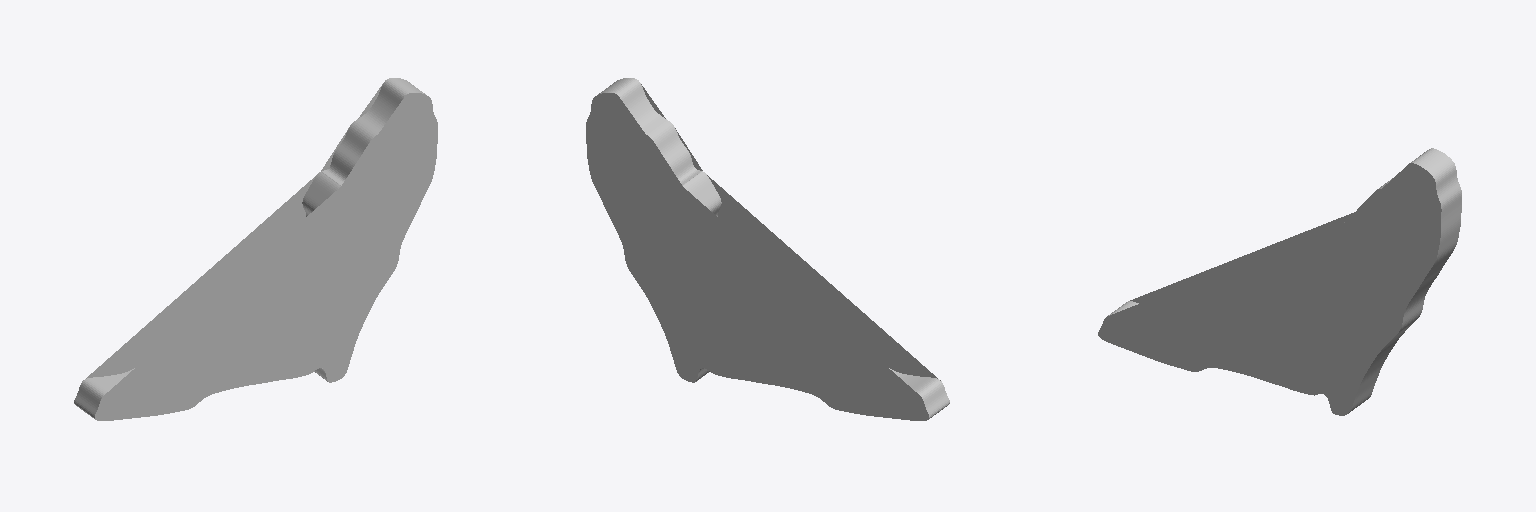
3 renders of one model, left to right at view 1: azimuth 30°, elevation 25°; view 2: azimuth 150°, elevation 25°; view 3: azimuth 330°, elevation 25°, orthographic.
Parts seen in each view (by area): view 1: 平面; view 2: 平面; view 3: 平面.
Boxes of the visible parts, box(x1,y1,x2,y2) form: 平面: box(74, 78, 437, 420); 平面: box(586, 78, 949, 420); 平面: box(1098, 148, 1461, 415).
Size of the model in its own units: 1.93 by 1.45 by 0.2.